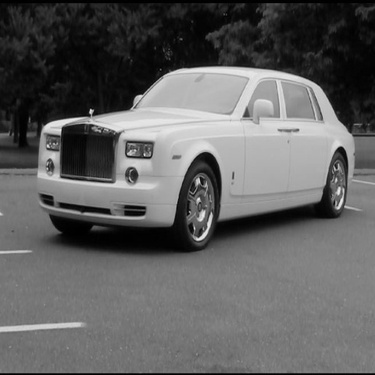car: (30, 65, 360, 251)
